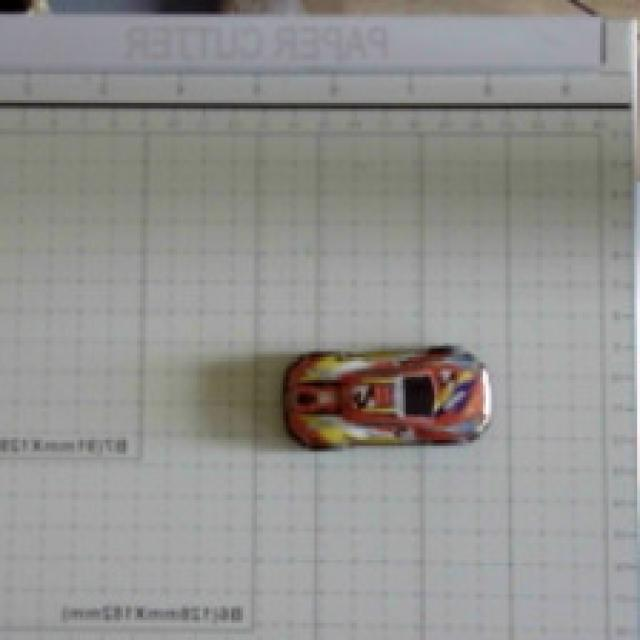Red Car: (221, 328, 510, 528)
